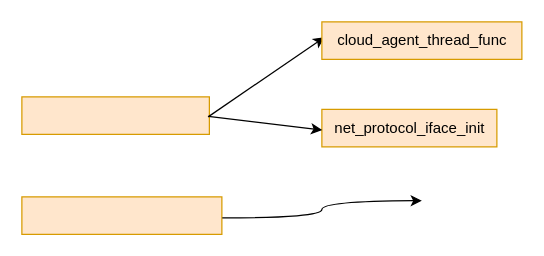
Image size: 544x256. Some labels were removed from this diagram. The shapes that lost their labels are listed below. From the top down, each one's centre as x and y in pixels, then its label:
point (115, 115): epi_cloud_agent_create
point (121, 215): epi_cloud_agent_connect
